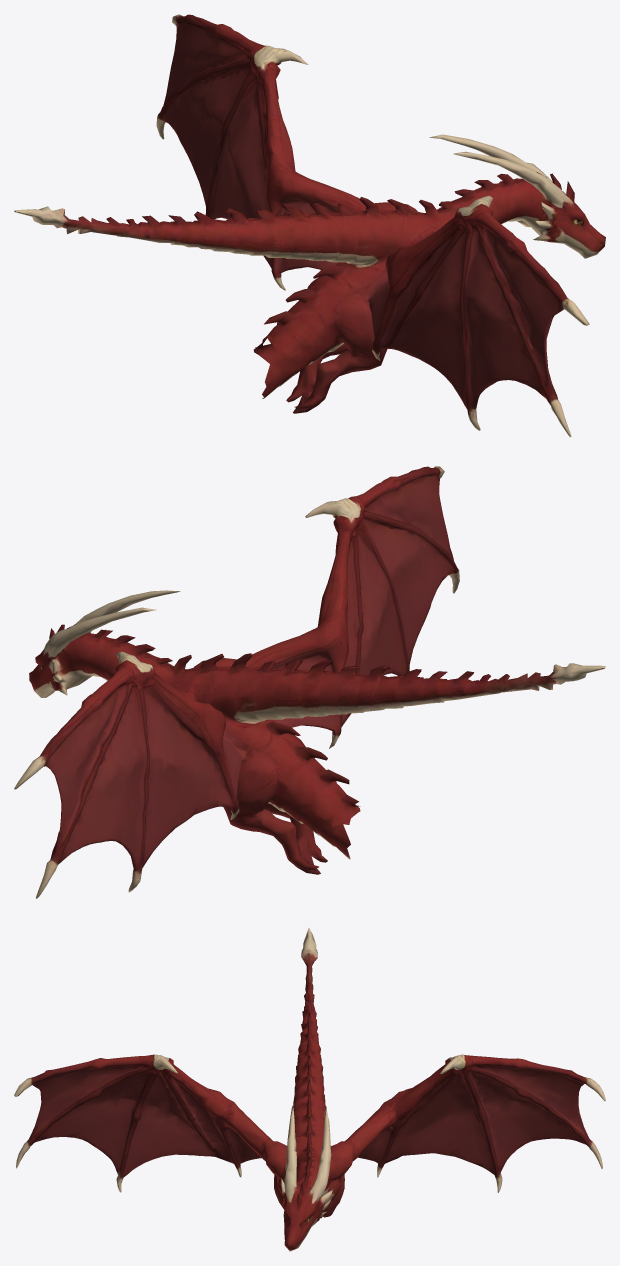
Rendered from dragon_fly.draco.glb.
The picture shows the model from 3 angles, top to bottom: view 1: azimuth 30°, elevation 25°; view 2: azimuth 150°, elevation 25°; view 3: azimuth 270°, elevation 25°; orthographic projection. The views are drawn at different scales.
Parts seen in each view (by area): view 1: dragon_fly; view 2: dragon_fly; view 3: dragon_fly.
Part boxes in pixels (x1,y1,x2,y2): dragon_fly: [14, 14, 605, 437]; dragon_fly: [14, 466, 605, 898]; dragon_fly: [14, 928, 605, 1251].
Size of the model in its own units: 0.8095 by 0.3648 by 1.
1 material, 1 textured.
